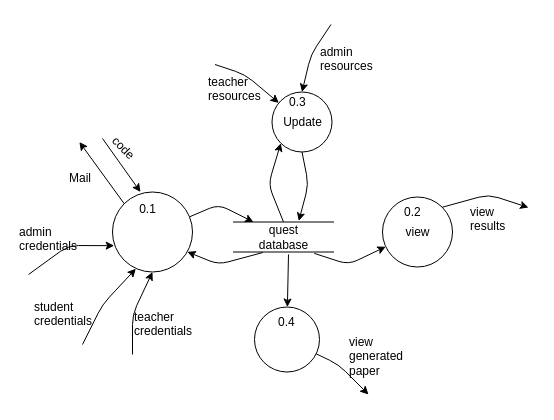
Some shapes in this 554 by 420 pixel diagram are drawn without their labels. Each missing label, with the box of its shape:
authentication: (112, 191, 192, 272)
generate paper: (254, 306, 320, 372)
